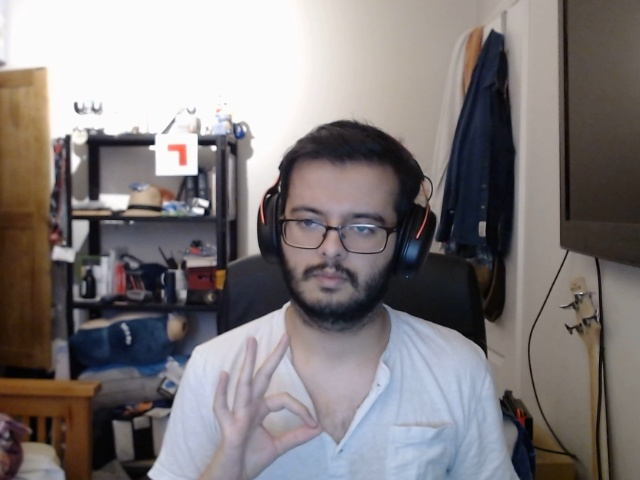Okay: (195, 328, 328, 480)
